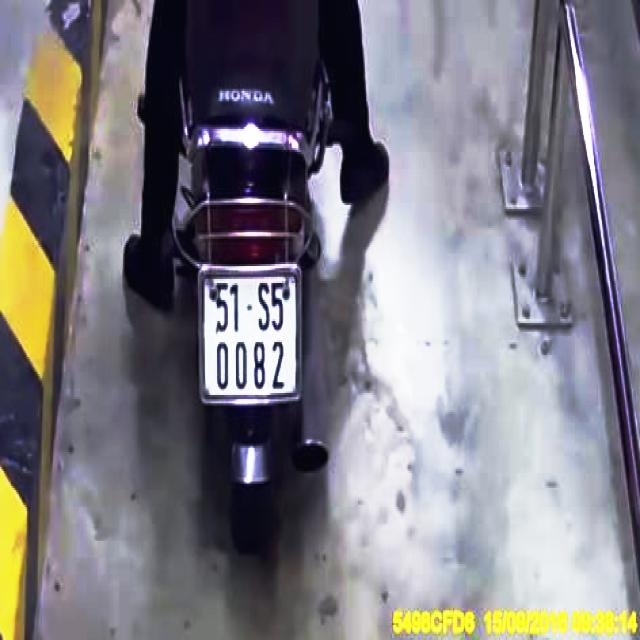license_plate: (201, 268, 302, 400)
